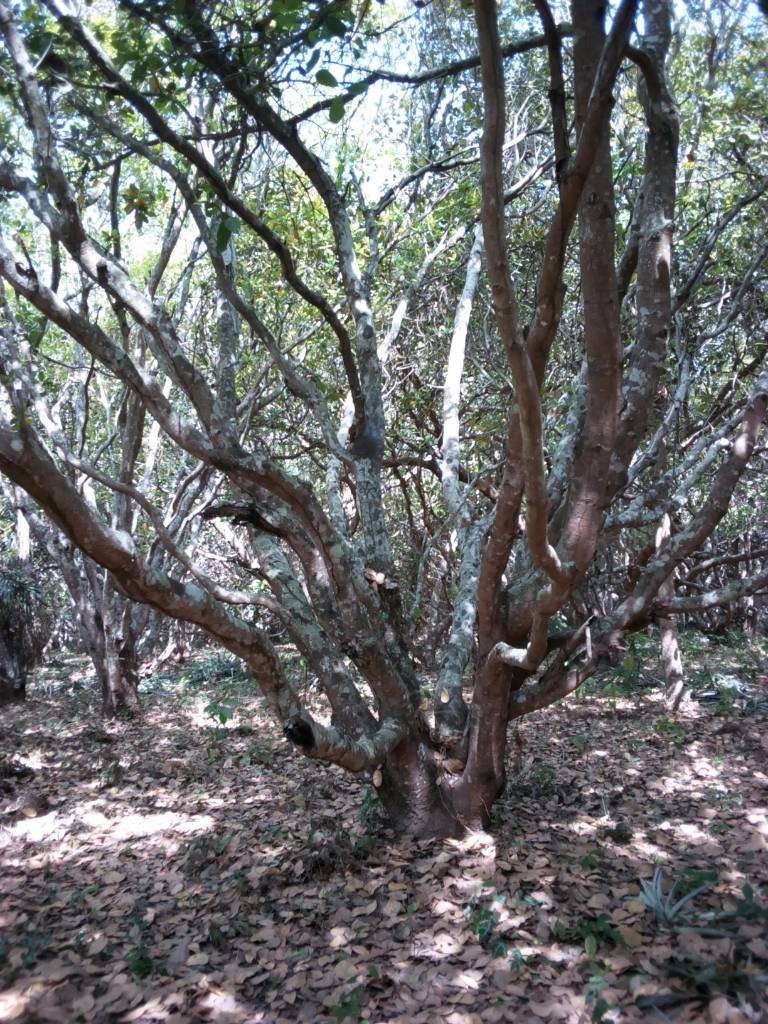Termites: (147, 591, 274, 660), (480, 672, 511, 797)
